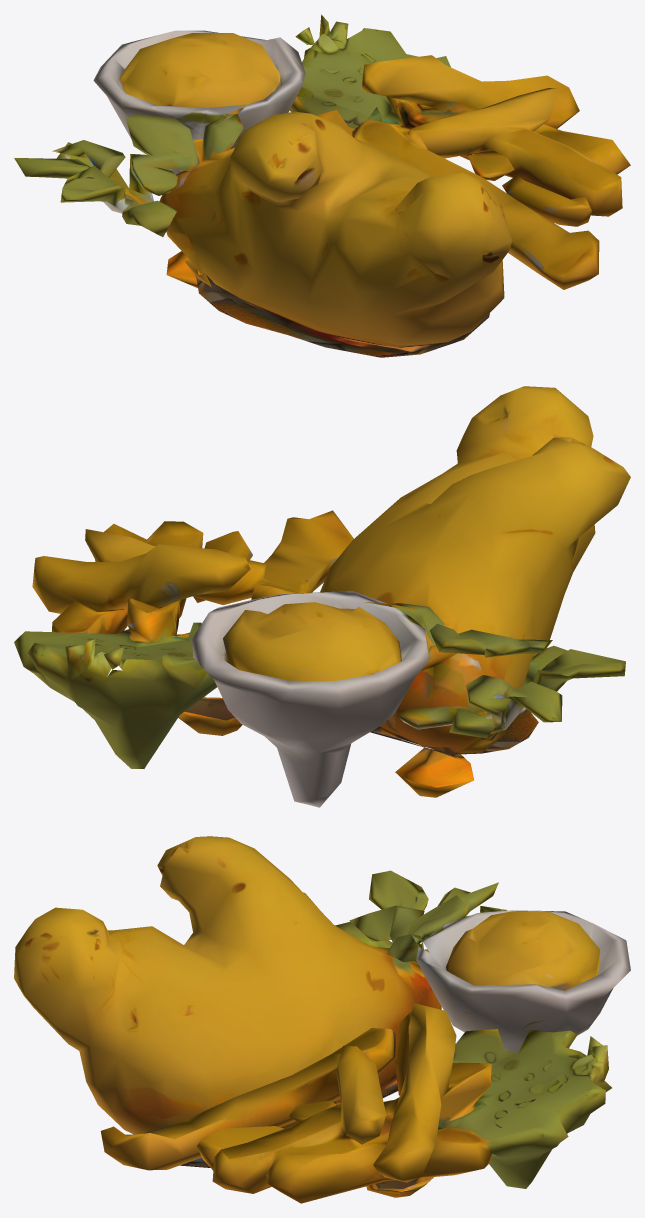
The model's file is TripoModel.glb.
3 views of the same model, one above another, from view 1: azimuth 30°, elevation 25°; view 2: azimuth 150°, elevation 25°; view 3: azimuth 270°, elevation 25° (orthographic). The views are drawn at different scales.
Parts seen in each view (by area): view 1: tripo_node_af8f086a-c508-44e5-9cd3-ad6ae6ade9c6; view 2: tripo_node_af8f086a-c508-44e5-9cd3-ad6ae6ade9c6; view 3: tripo_node_af8f086a-c508-44e5-9cd3-ad6ae6ade9c6.
Boxes of the visible parts, left/top/right/bottom form: tripo_node_af8f086a-c508-44e5-9cd3-ad6ae6ade9c6: left=14, top=14, right=630, bottom=357; tripo_node_af8f086a-c508-44e5-9cd3-ad6ae6ade9c6: left=14, top=386, right=630, bottom=807; tripo_node_af8f086a-c508-44e5-9cd3-ad6ae6ade9c6: left=14, top=836, right=630, bottom=1203.
Bounding box in the file's own units: 0.9936 × 0.4445 × 0.9997.
1 material, 1 textured.
